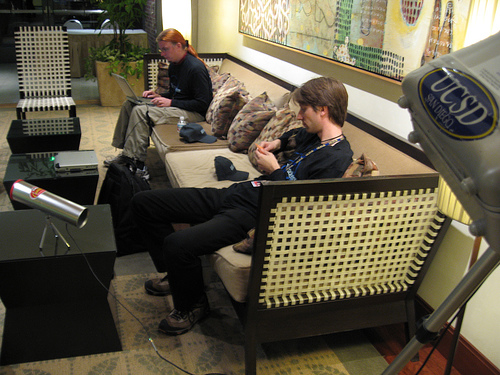without_mask: (293, 87, 340, 139), (157, 36, 186, 64)
